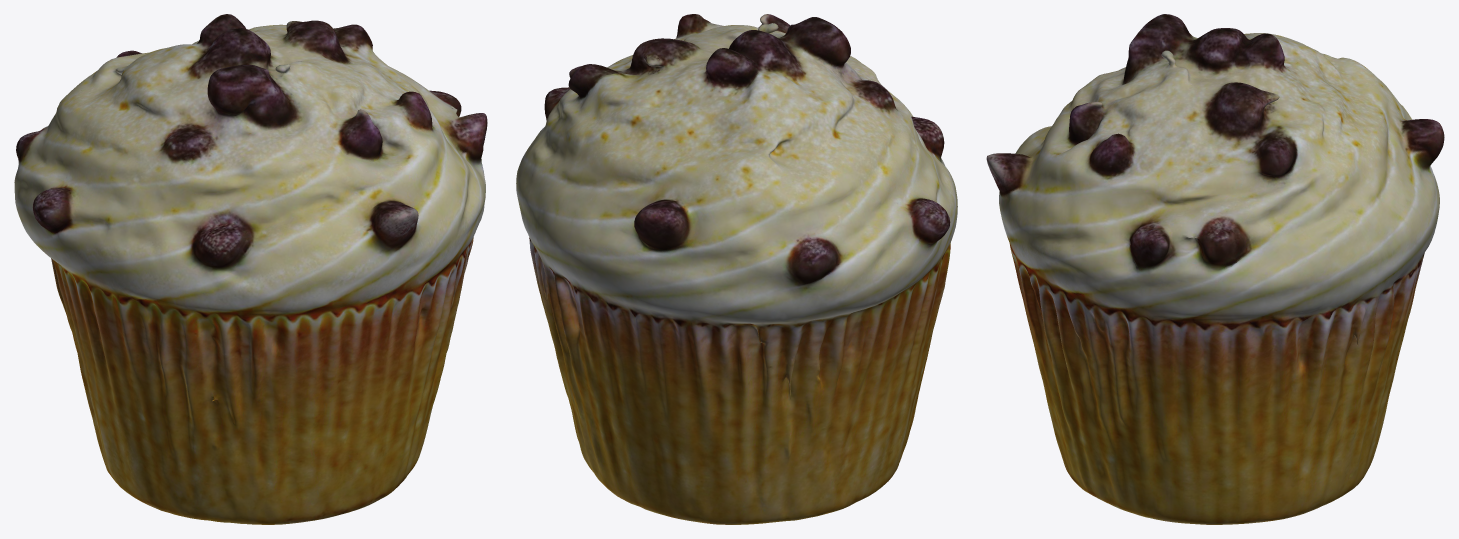
File: cupcake.glb
3 renders of one model, left to right at view 1: azimuth 30°, elevation 25°; view 2: azimuth 150°, elevation 25°; view 3: azimuth 270°, elevation 25°, orthographic. The views are drawn at different scales.
Visible parts, largest first — view 1: Object_2; view 2: Object_2; view 3: Object_2.
Boxes of the visible parts, left/top/right/bottom form: Object_2: left=14, top=14, right=487, bottom=524; Object_2: left=516, top=14, right=957, bottom=524; Object_2: left=986, top=14, right=1444, bottom=524.
Bounding box in the file's own units: 0.9868 × 1 × 0.9639.
Materials: 1 (1 with a texture image).
